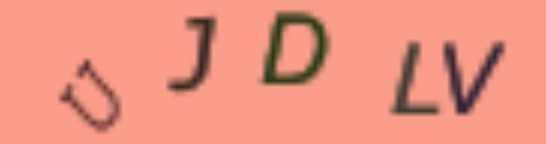D: (254, 8, 336, 89)
J: (162, 10, 221, 99)
L: (388, 38, 440, 118)
U: (58, 56, 122, 137)
V: (440, 38, 508, 118)
